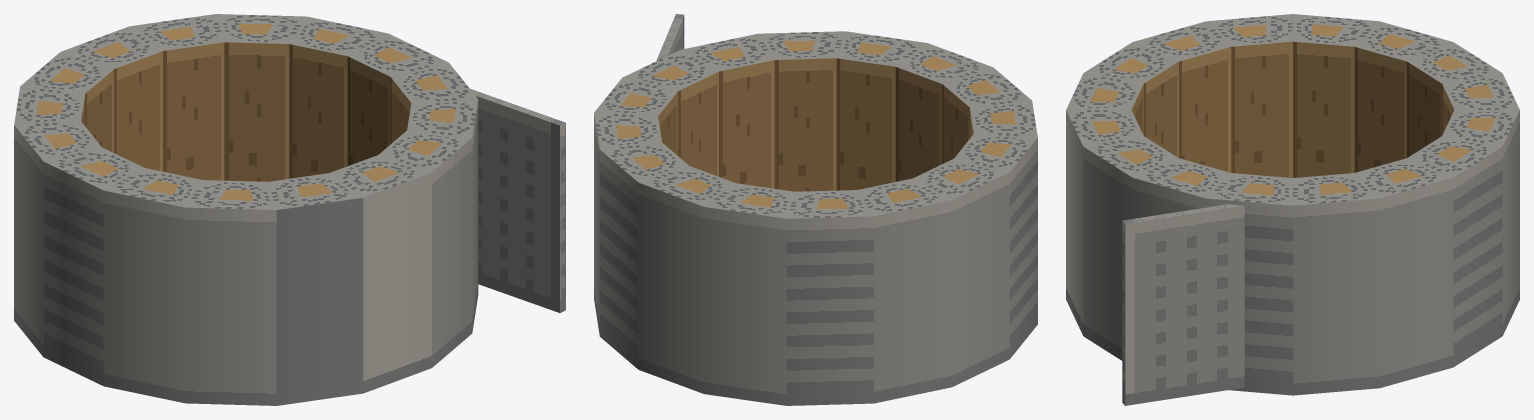
File: INV_DuctTape.glb
The picture shows the model from 3 angles, left to right: view 1: azimuth 30°, elevation 25°; view 2: azimuth 150°, elevation 25°; view 3: azimuth 270°, elevation 25°; orthographic projection. The views are drawn at different scales.
Visible parts, largest first — view 1: INV_DuctTape_Mesh; view 2: INV_DuctTape_Mesh; view 3: INV_DuctTape_Mesh.
Boxes of the visible parts, bbox=[...] form: INV_DuctTape_Mesh: bbox=[14, 14, 565, 405]; INV_DuctTape_Mesh: bbox=[594, 14, 1037, 405]; INV_DuctTape_Mesh: bbox=[1066, 14, 1519, 405].
Size of what is drawn, in the model's own units: 0.1118 by 0.048 by 0.104.
Materials: 1 (1 with a texture image).
